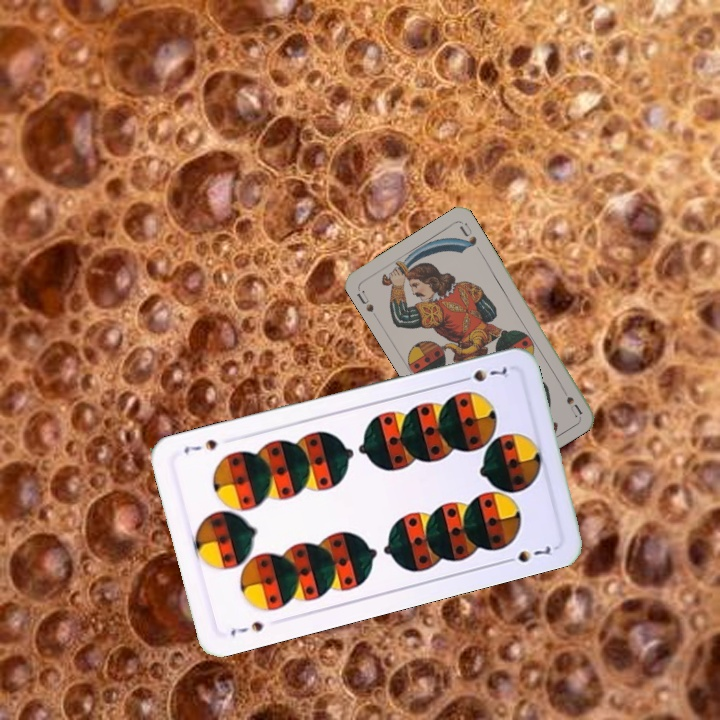S7: (454, 363, 511, 385), (226, 617, 266, 639)
SU: (556, 381, 585, 419), (353, 287, 377, 315)
